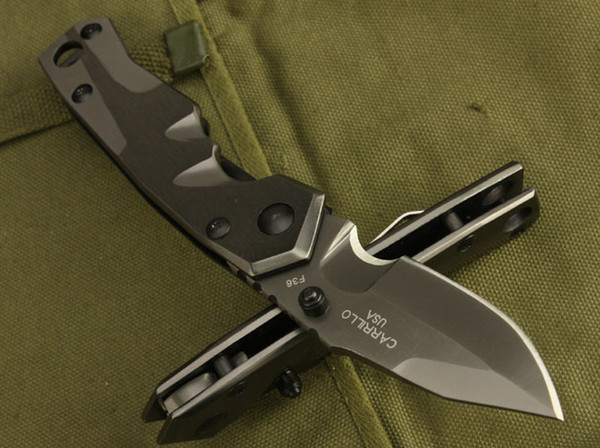knife: (284, 233, 571, 428)
